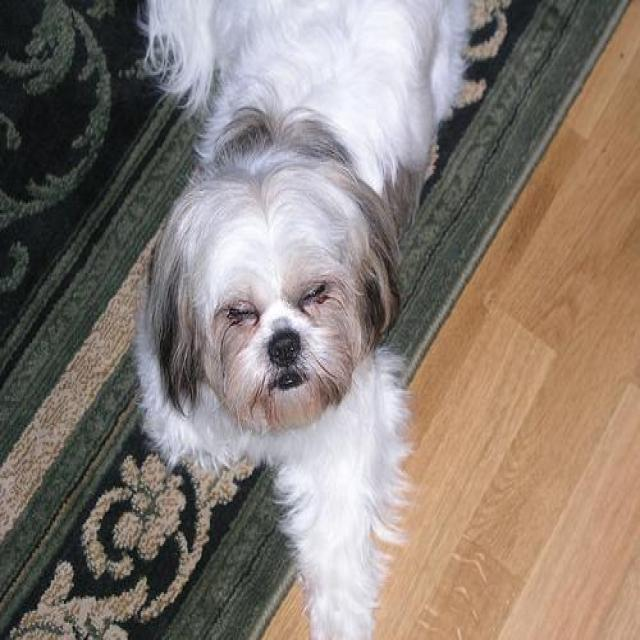shih_tzu: (127, 2, 470, 638)
